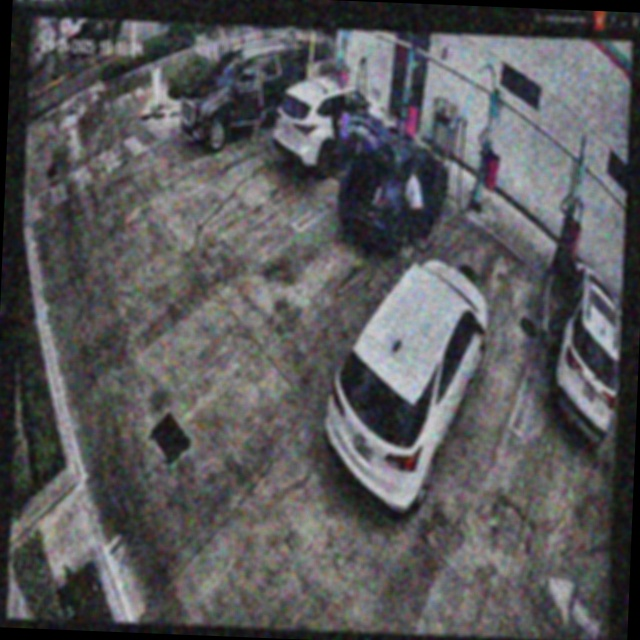Car: (321, 254, 489, 520), (334, 112, 453, 258), (273, 73, 390, 182)
